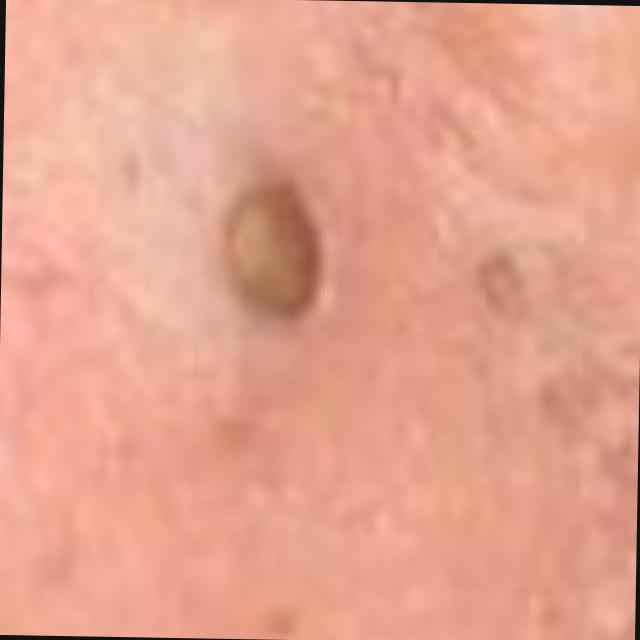blackhead: (222, 182, 319, 322), (482, 253, 524, 323)
